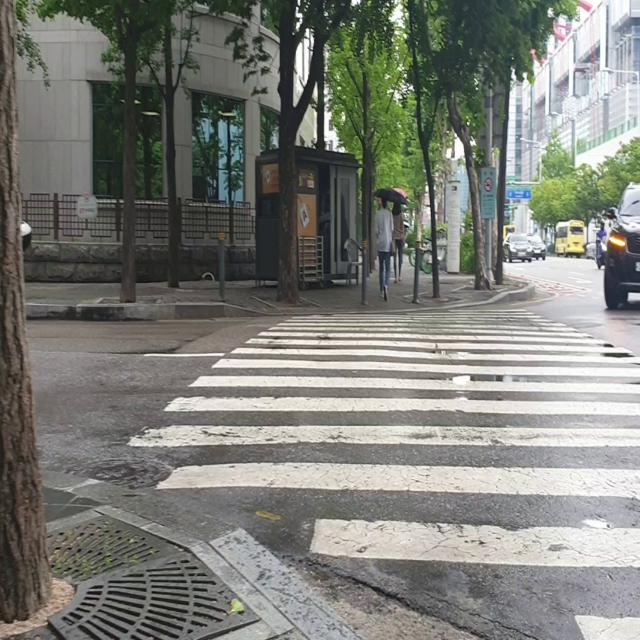횡단보도: (125, 303, 640, 640)
